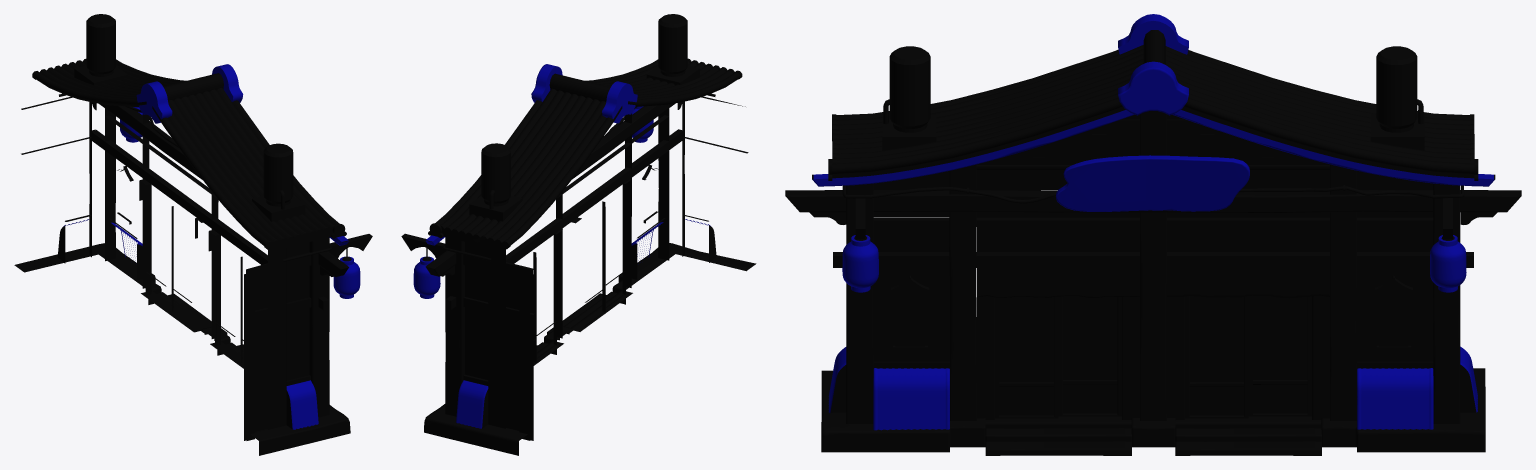
File: SM_ENV_LKNVLD_Hatago_Front.gltf
3 renders of one model, left to right at view 1: azimuth 30°, elevation 25°; view 2: azimuth 150°, elevation 25°; view 3: azimuth 270°, elevation 25°, orthographic. The views are drawn at different scales.
Parts seen in each view (by area): view 1: SM_ENV_LKNVLD_Hatago_Front; view 2: SM_ENV_LKNVLD_Hatago_Front; view 3: SM_ENV_LKNVLD_Hatago_Front.
Part boxes in pixels (x1,y1,x2,y2): SM_ENV_LKNVLD_Hatago_Front: (14,14,372,455); SM_ENV_LKNVLD_Hatago_Front: (401,14,756,455); SM_ENV_LKNVLD_Hatago_Front: (785,14,1521,455).
Bounding box in the file's own units: 4.7 × 9.42 × 16.34.
